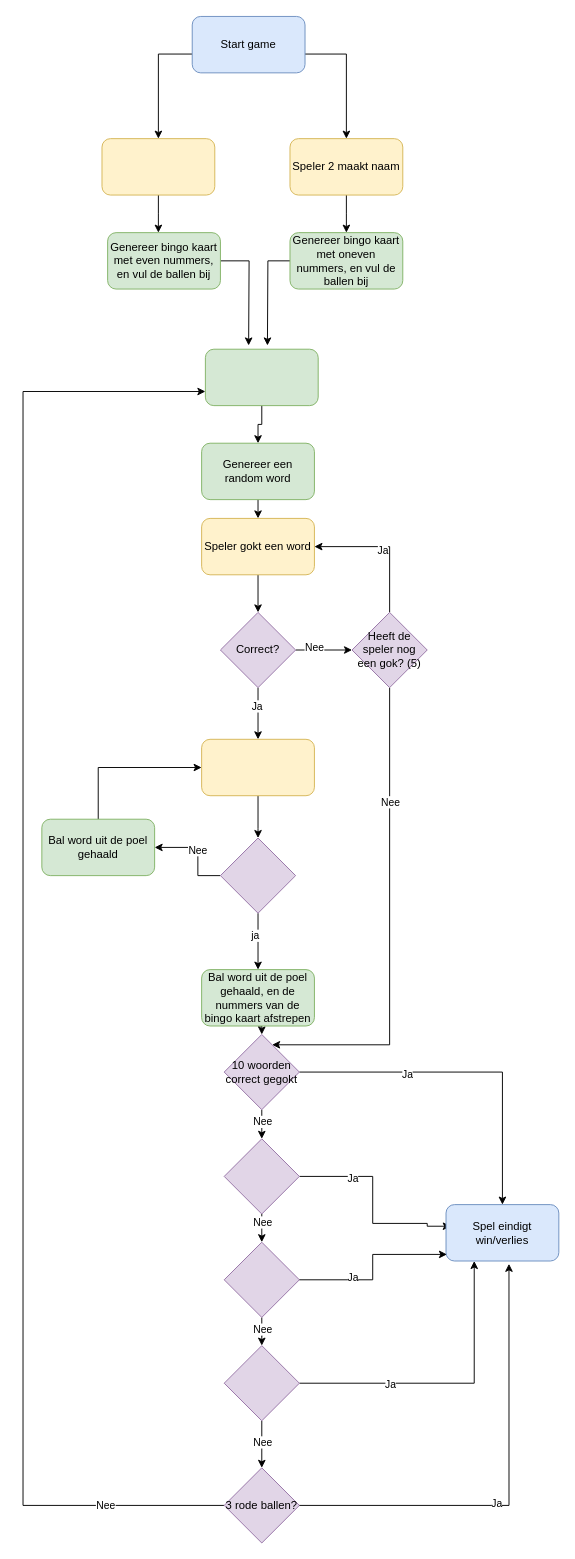
This 575x1559 diagram has some shape labels left out. The shapes that lost their labels are listed below. From the top down, each one's box as (x1, y1, x2, y2) in pixels, then its label:
(101, 138, 215, 195): Speler 1 maakt naam
(204, 348, 318, 406): Actieve team word geselecteerd (ronde 1 is speler 1)
(201, 738, 314, 796): Speler grijpt een bal
(219, 837, 296, 913): Rode bal op ronde 1, of voor de 2e keer gegrepen?
(223, 1138, 299, 1214): 3 rondes achter elkaar verloren
(223, 1241, 299, 1317): 3 groene ballen?
(223, 1345, 299, 1421): Bingo lijn?
